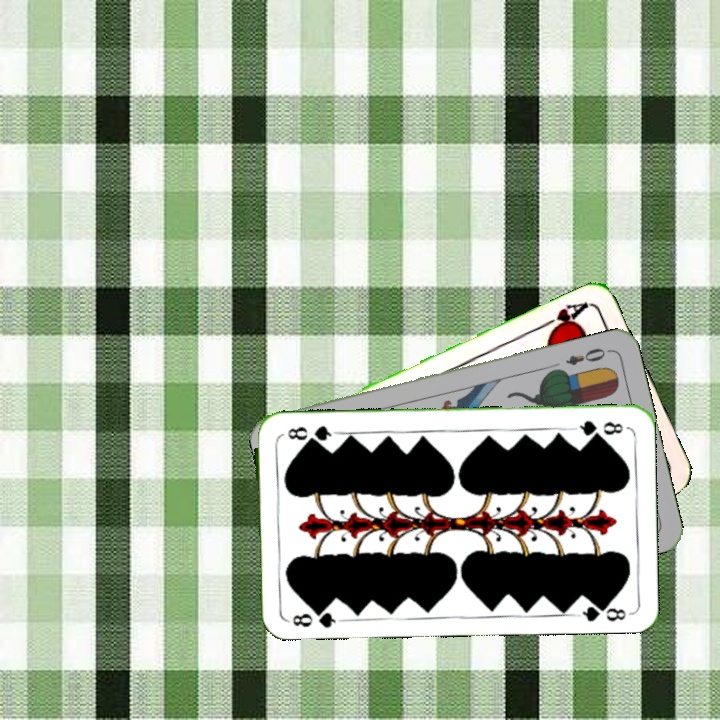EO: (562, 344, 613, 368)
G8: (288, 603, 342, 630), (569, 417, 626, 439)
HA: (535, 298, 591, 338)
